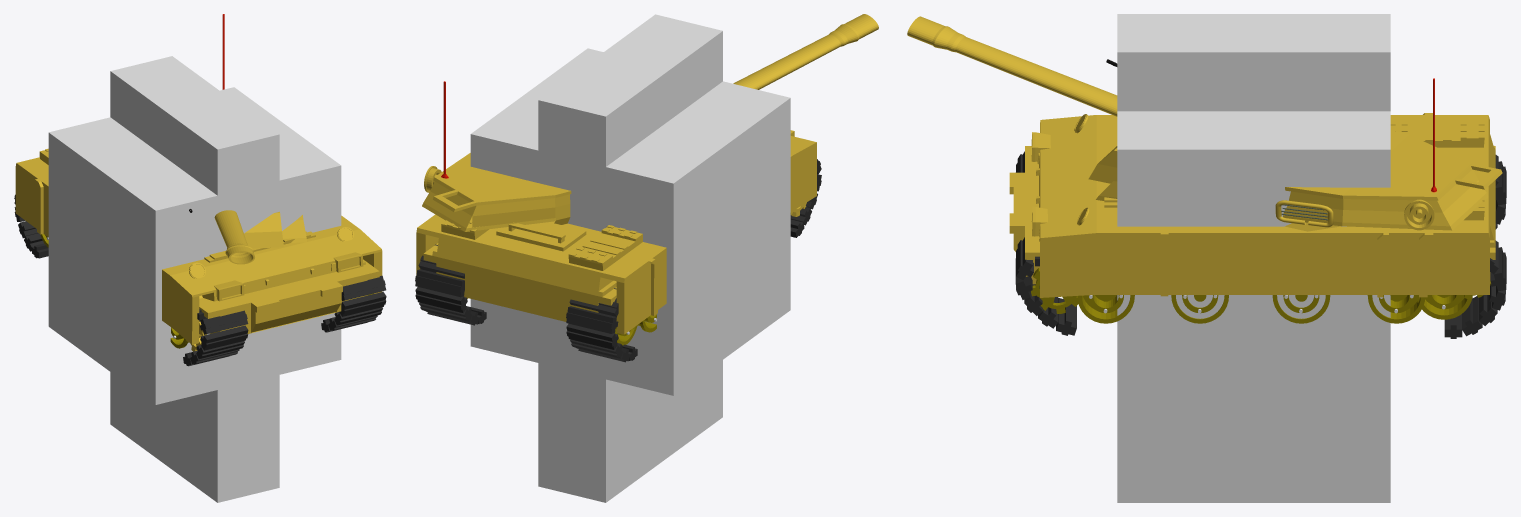
Rendered from 12_leopard_abrams.glb.
The picture shows the model from 3 angles, left to right: view 1: azimuth 30°, elevation 25°; view 2: azimuth 150°, elevation 25°; view 3: azimuth 270°, elevation 25°; orthographic projection. The views are drawn at different scales.
Parts seen in each view (by area): view 1: Cube.003, Cube, Cube.006, Cube.007, Cube.001, Circle.020, Cube.010, Cube.011, Cube.012; view 2: Cube.003, Cube, Cube.001, Cube.010, Cube.005, Circle.020, Cube.006; view 3: Cube.003, Cube, Cube.001, Circle.020, Cube.007, Cube.005, Circle.014, Circle.019, Circle.010, Circle.016, Circle.015, Circle.022 (+2 smaller).
Boxes of the visible parts, left/top/right/bottom form: Cube.003: left=48, top=56, right=341, bottom=502; Cube: left=15, top=148, right=382, bottom=344; Cube.006: left=183, top=310, right=248, bottom=366; Cube.007: left=321, top=275, right=386, bottom=332; Cube.001: left=244, top=211, right=306, bottom=248; Circle.020: left=214, top=210, right=254, bottom=264; Cube.010: left=14, top=194, right=43, bottom=251; Cube.011: left=214, top=280, right=244, bottom=301; Cube.012: left=333, top=252, right=363, bottom=272; Cube.003: left=470, top=14, right=790, bottom=502; Cube: left=416, top=136, right=816, bottom=334; Cube.001: left=422, top=153, right=571, bottom=231; Cube.010: left=566, top=288, right=630, bottom=362; Cube.005: left=415, top=244, right=479, bottom=325; Circle.020: left=733, top=14, right=878, bottom=89; Cube.006: left=790, top=159, right=821, bottom=237; Cube.003: left=1117, top=14, right=1390, bottom=502; Cube: left=1009, top=113, right=1495, bottom=297; Cube.001: left=1088, top=130, right=1502, bottom=231; Circle.020: left=907, top=16, right=1117, bottom=116; Cube.007: left=1015, top=237, right=1076, bottom=335; Cube.005: left=1462, top=240, right=1506, bottom=336; Circle.014: left=1077, top=295, right=1134, bottom=323; Circle.019: left=1367, top=295, right=1425, bottom=323; Circle.010: left=1415, top=295, right=1472, bottom=319; Circle.016: left=1272, top=295, right=1330, bottom=323; Circle.015: left=1171, top=295, right=1228, bottom=323; Circle.022: left=1404, top=199, right=1434, bottom=230.
Bounding box in the file's own units: 2.32 × 3.77 × 4.39.
